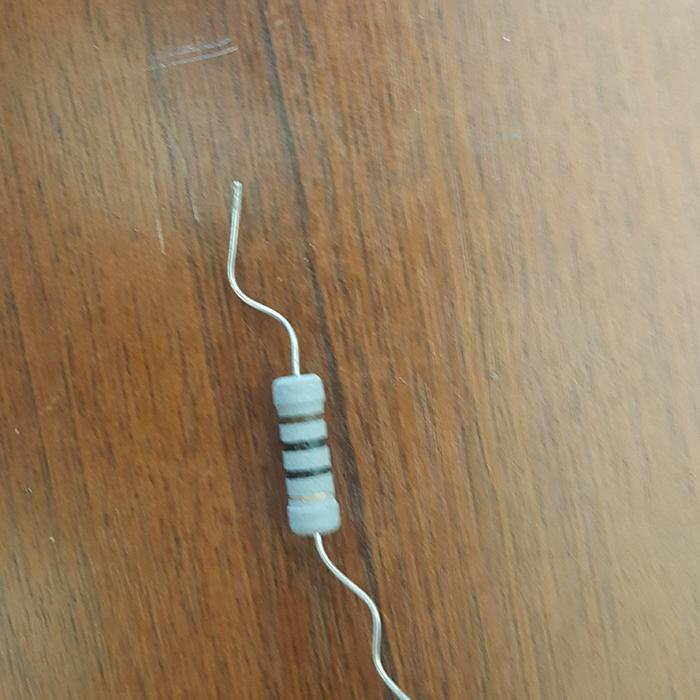resistor: (272, 372, 343, 537)
